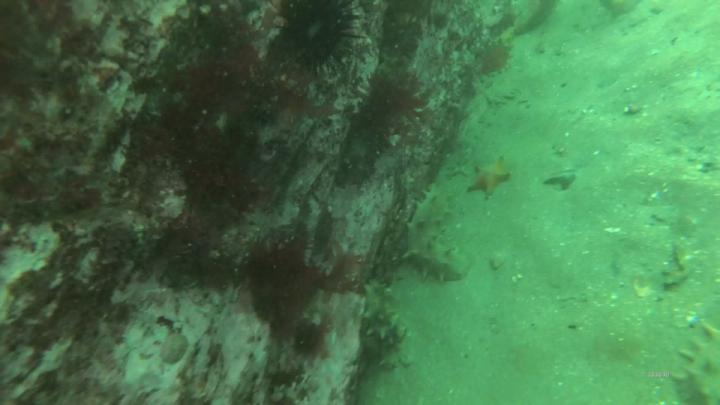echinus: (272, 4, 370, 85)
holothurian: (404, 186, 473, 283), (357, 278, 418, 373), (667, 316, 720, 405)
starfish: (471, 154, 511, 203)
waterweeds: (258, 229, 357, 349), (374, 72, 432, 139)
